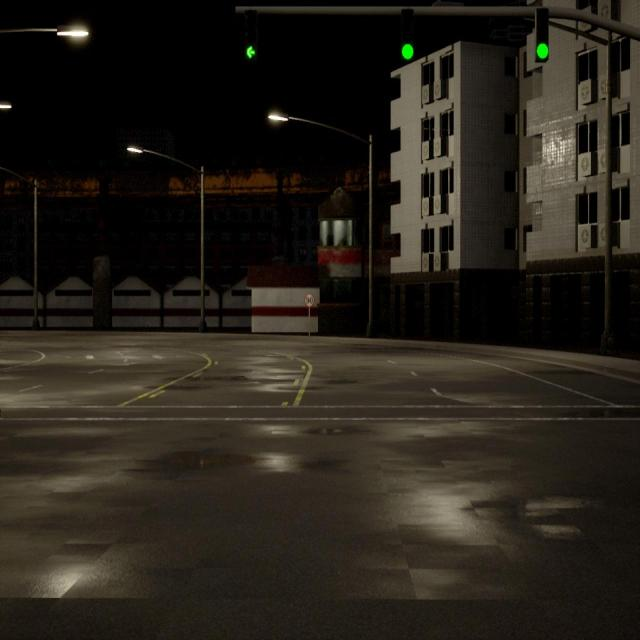Traffic_Signs: (305, 294, 314, 306)
traffic_light: (536, 8, 549, 61), (245, 10, 257, 59), (402, 10, 414, 59)
